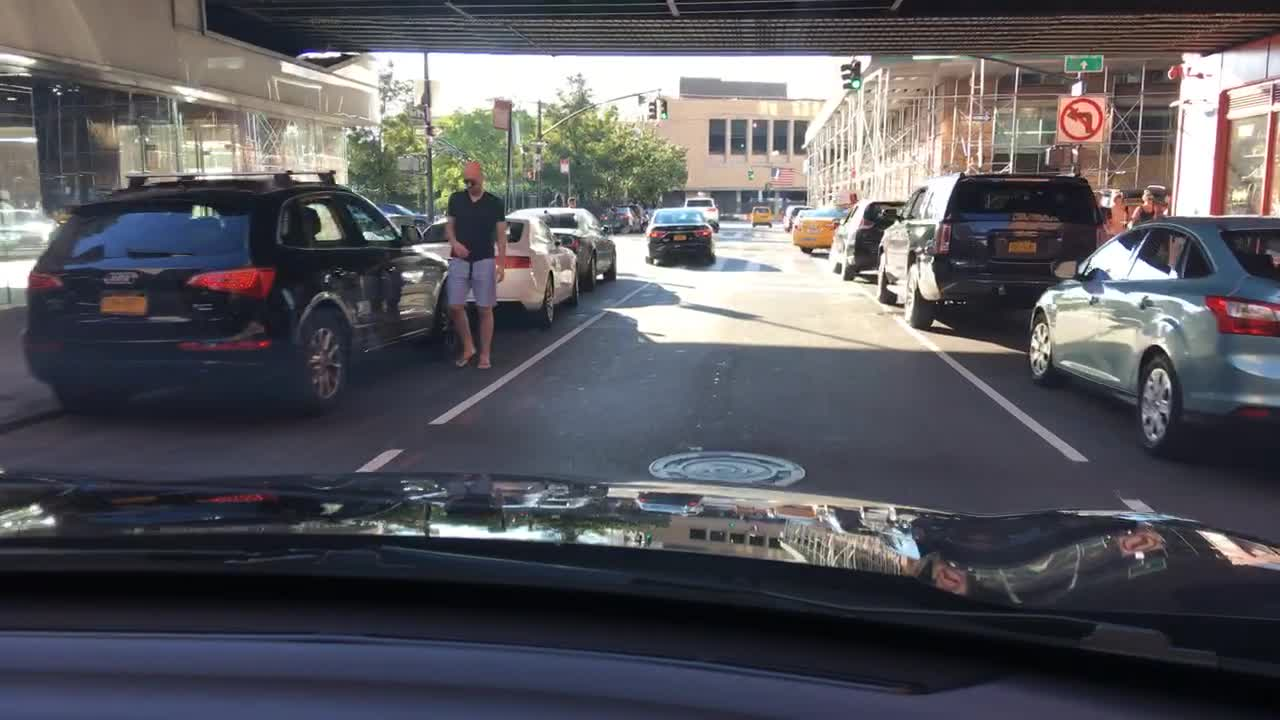car: (22, 169, 446, 417), (1028, 215, 1279, 454), (872, 173, 1100, 333), (422, 217, 581, 330), (511, 207, 616, 290), (821, 202, 904, 280), (641, 210, 714, 263), (792, 207, 848, 260), (683, 197, 719, 227), (781, 205, 807, 230), (593, 205, 616, 232), (610, 207, 636, 230), (751, 204, 769, 227)
person: (441, 162, 506, 370), (1126, 190, 1159, 223), (547, 192, 565, 207), (567, 194, 578, 205)
traffic light: (839, 62, 850, 91), (849, 62, 860, 88), (647, 101, 656, 119), (660, 98, 666, 119)
traffic sign: (1058, 96, 1105, 142), (1061, 54, 1100, 72)
